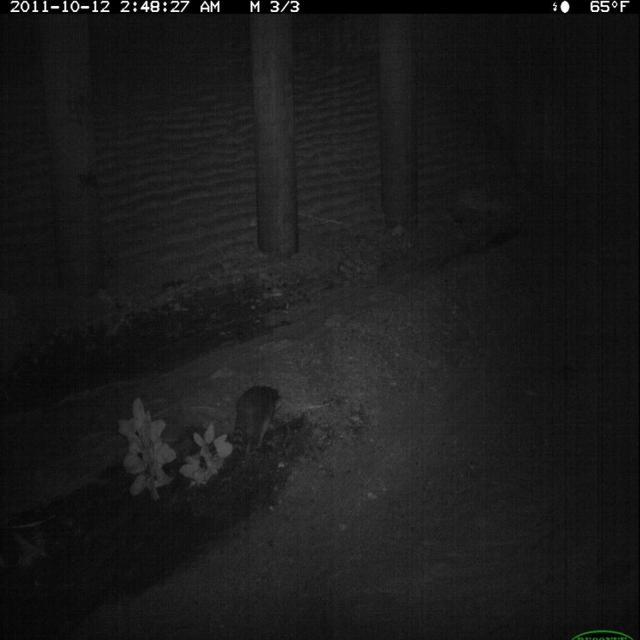raccoon: (228, 381, 285, 471)
